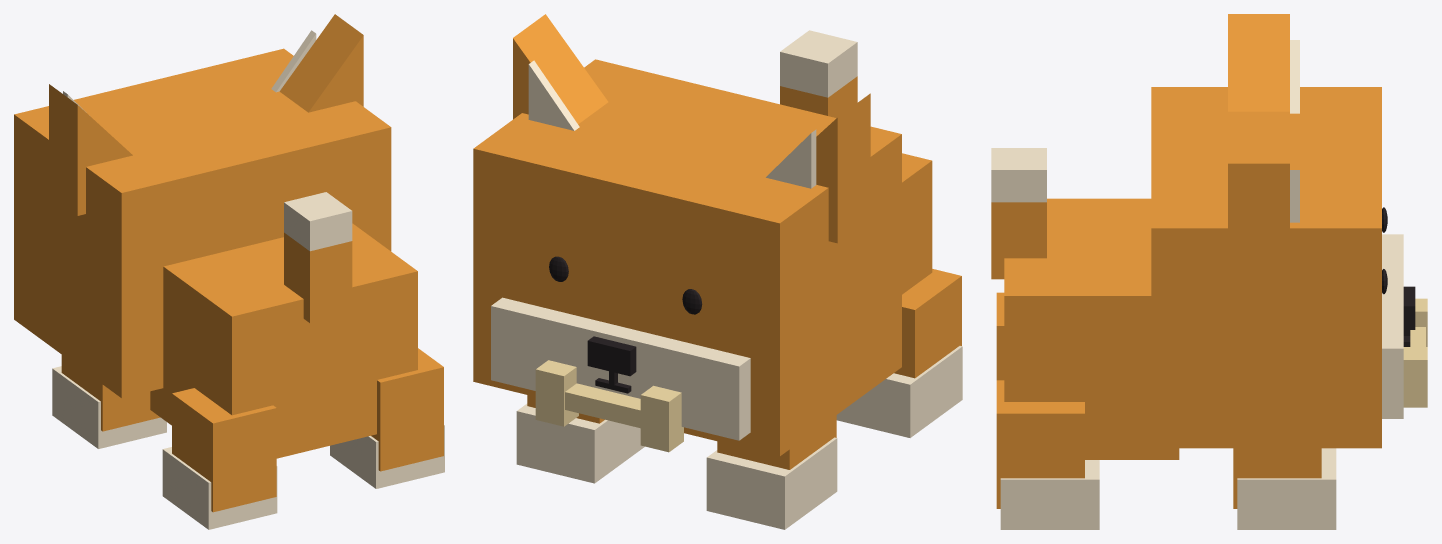
The model's file is Shiba_Block.obj.
3 views of the same model, side by side, from view 1: azimuth 30°, elevation 25°; view 2: azimuth 150°, elevation 25°; view 3: azimuth 270°, elevation 25° (orthographic). The views are drawn at different scales.
Parts seen in each view (by area): view 1: BigHead, ShortTorso, LegBL_Leg, LegBR_Leg, EarL, EarR, TailRoot, LegBL_Paw, LegFL_Paw, TailCreamTip, LegBR_Paw, LegFL_Leg (+1 smaller); view 2: BigHead, CreamMuzzle, LegFL_Paw, LegFR_Paw, EarL, LegBL_Paw, LegBL_Leg, EarR, TailCreamTip, ShortTorso, BoneBlockEndL, BoneBlockEndR (+6 smaller); view 3: BigHead, ShortTorso, EarR, LegBR_Leg, EarL, LegFR_Paw, LegBR_Paw, CreamMuzzle, TailRoot, TailCreamTip, LegFR_Leg, BoneBlockEndR (+4 smaller).
Boxes of the visible parts, x1,y1,x2,y2 form: BigHead: (14, 48, 391, 398); ShortTorso: (150, 223, 417, 458); LegBL_Leg: (172, 388, 276, 512); LegBR_Leg: (371, 348, 443, 471); EarL: (49, 84, 132, 215); EarR: (279, 14, 363, 112); TailRoot: (284, 232, 352, 322); LegBL_Paw: (162, 447, 277, 529); LegFL_Paw: (52, 366, 166, 448); TailCreamTip: (284, 192, 352, 251); LegBR_Paw: (330, 425, 444, 488); LegFL_Leg: (61, 355, 160, 431); BigHead: (473, 59, 901, 456); CreamMuzzle: (491, 297, 750, 440); LegFL_Paw: (706, 437, 837, 529); LegFR_Paw: (516, 403, 644, 483); EarL: (816, 93, 870, 243); LegBL_Paw: (836, 346, 962, 437); LegBL_Leg: (894, 269, 961, 378); EarR: (513, 14, 608, 124); TailCreamTip: (780, 30, 857, 97); ShortTorso: (902, 153, 932, 294); BoneBlockEndL: (640, 385, 683, 452); BoneBlockEndR: (535, 360, 578, 426); BigHead: (1151, 87, 1381, 448); ShortTorso: (1004, 198, 1179, 459); EarR: (1228, 163, 1289, 282); LegBR_Leg: (996, 380, 1084, 508); EarL: (1228, 14, 1289, 111); LegFR_Paw: (1237, 448, 1336, 529); LegBR_Paw: (1000, 460, 1099, 529); CreamMuzzle: (1382, 234, 1403, 418); TailRoot: (991, 202, 1046, 279); TailCreamTip: (991, 148, 1046, 202); LegFR_Leg: (1233, 448, 1321, 508); BoneBlockEndR: (1403, 347, 1427, 407).
Size of the model in its own units: 2.29 by 2.7 by 2.82.
